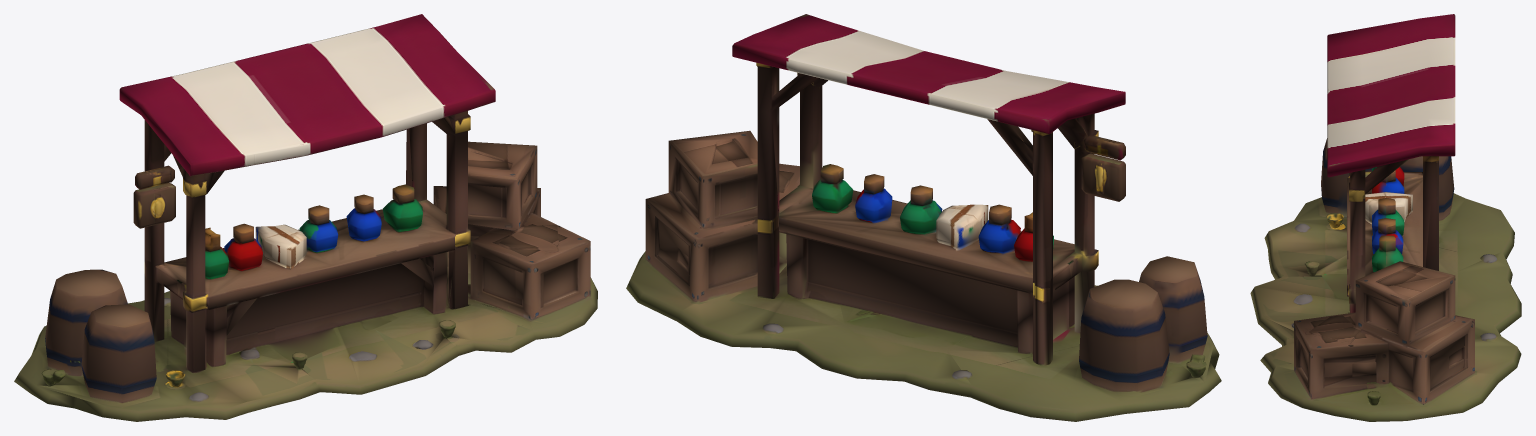
File: merchant_shop.glb
The picture shows the model from 3 angles, left to right: view 1: azimuth 30°, elevation 25°; view 2: azimuth 150°, elevation 25°; view 3: azimuth 270°, elevation 25°; orthographic projection. The views are drawn at different scales.
Parts seen in each view (by area): view 1: mesh_rep_0_ori_repair; view 2: mesh_rep_0_ori_repair; view 3: mesh_rep_0_ori_repair.
Boxes of the visible parts, box(x1,y1,x2,y2) form: mesh_rep_0_ori_repair: box(14, 14, 597, 421); mesh_rep_0_ori_repair: box(626, 14, 1221, 421); mesh_rep_0_ori_repair: box(1250, 14, 1521, 421).
Size of the model in its own units: 4.8 by 2.17 by 2.34.
Materials: 1 (1 with a texture image).
